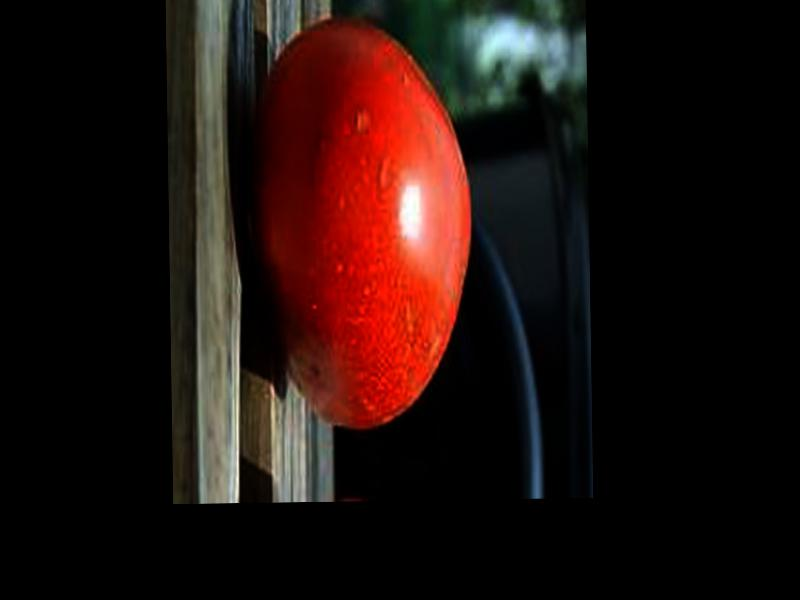Tomato: (251, 14, 475, 430)
